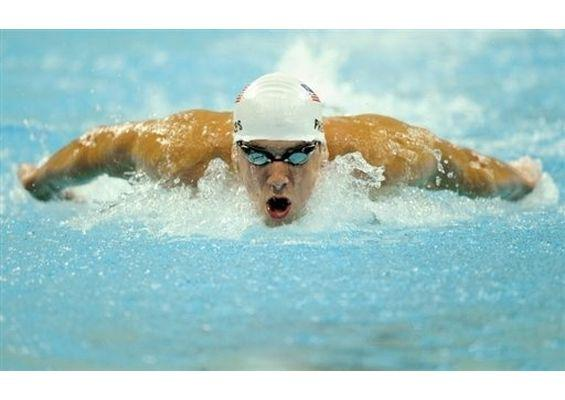human: (20, 73, 546, 234)
